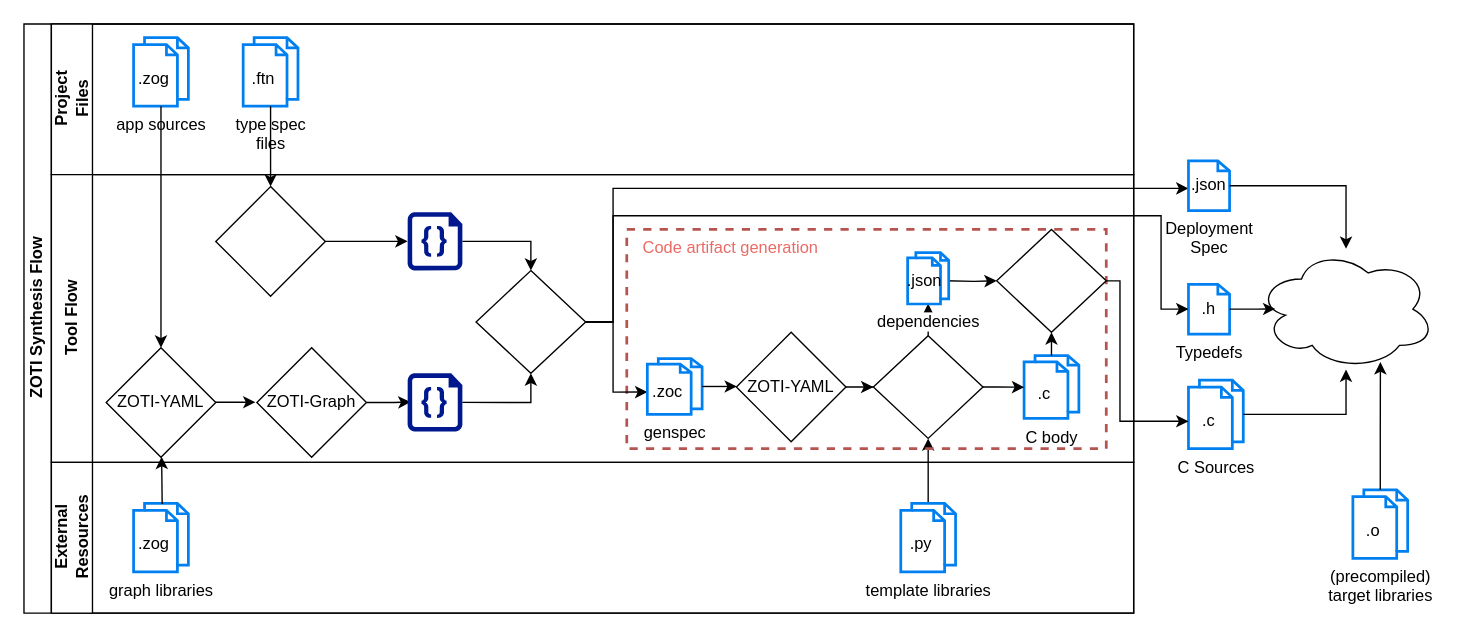
The diagram is 1459 pixels wide and 637 high, and some of its shapes have lost their labels. The centre of each missing label's shape, as x and y in pixels:
AppGraph: pixel 434 402
Compilation Linking Deployment: pixel 1345 308
FtnDb: pixel 434 241
postproc: pixel 1050 280
ZOTI-FTN (parser): pixel 269 240
ZOTI-Gen: pixel 927 386
ZOTI-Tran (graph2block): pixel 530 321
